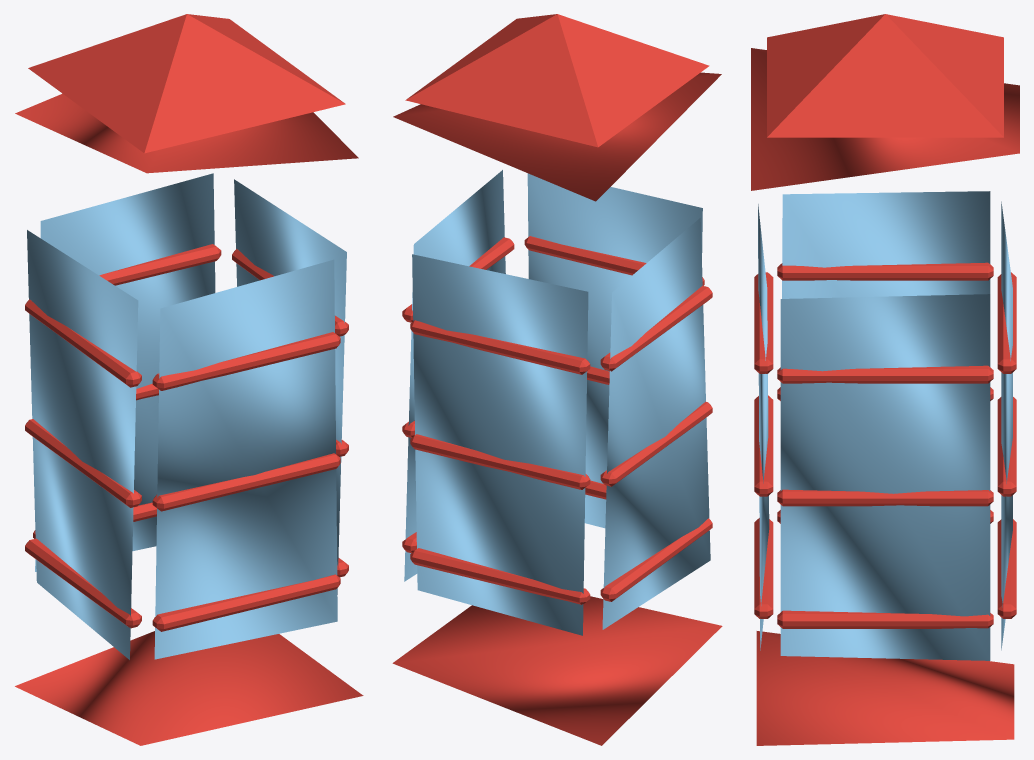
File: phone_booth.glb
3 renders of one model, left to right at view 1: azimuth 30°, elevation 25°; view 2: azimuth 150°, elevation 25°; view 3: azimuth 270°, elevation 25°, orthographic. The views are drawn at different scales.
Visible parts, largest first — view 1: phone_booth; view 2: phone_booth; view 3: phone_booth.
Boxes of the visible parts, x1,y1,x2,y2 form: phone_booth: (15,14,363,745); phone_booth: (392,14,722,745); phone_booth: (751,14,1019,745).
Size of the model in its own units: 0.9783 by 2.87 by 0.9931.
Materials: 1 (1 with a texture image).
